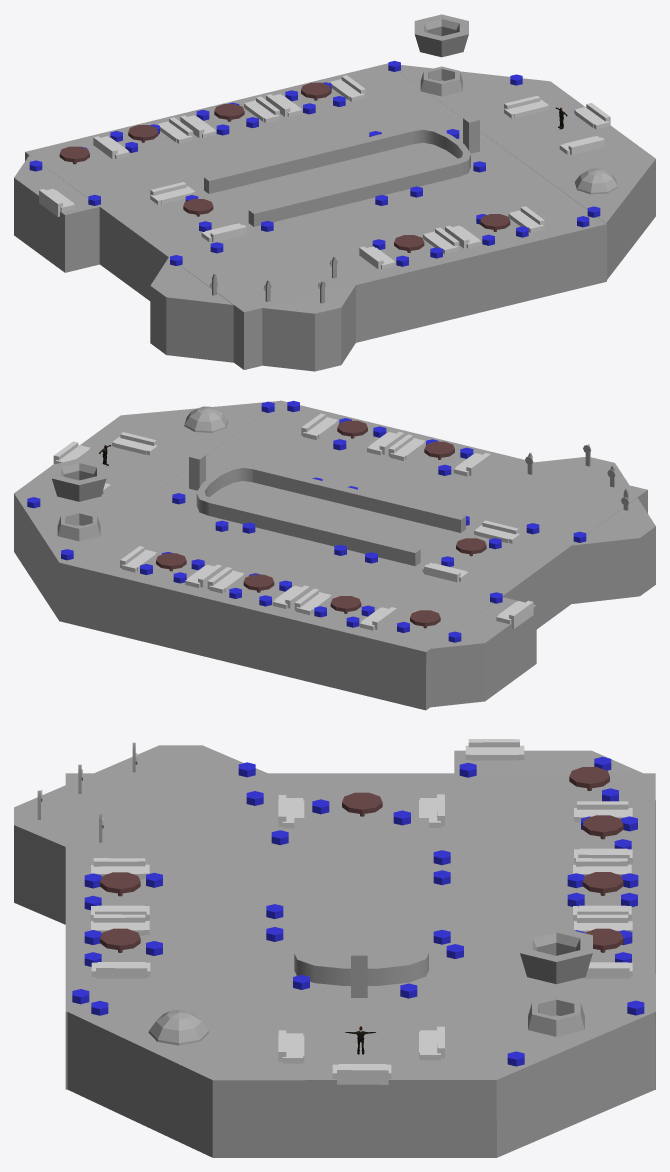
Rendered from HUB.fbx.
The picture shows the model from 3 angles, top to bottom: view 1: azimuth 30°, elevation 25°; view 2: azimuth 150°, elevation 25°; view 3: azimuth 270°, elevation 25°; orthographic projection. The views are drawn at different scales.
Visible parts, largest first — view 1: Floor239, Floor240, Floor243, Floor242, Floor241, Bar, Bar2, pTorus2, Bar1, pTorus1, Meditation_Stone, Watto; view 2: Floor239, Floor240, Floor241, Floor242, Bar2, Bar, pTorus2, Bar1, Floor243, pTorus1, Meditation_Stone, Watto; view 3: Floor239, Floor240, Floor243, pCylinder38 (×7), pTorus2, Floor242, Bar1, Floor241, pCube9 (×3), Bar2, pTorus1, Bar (+3 smaller).
Boxes of the visible parts, x1,y1,x2,y2 form: Floor239: (25, 63, 606, 369); Floor240: (398, 65, 655, 279); Floor243: (262, 285, 355, 371); Floor242: (150, 257, 233, 362); Floor241: (14, 155, 99, 272); Bar: (204, 129, 407, 193); Bar2: (248, 161, 452, 226); pTorus2: (414, 14, 468, 57); Bar1: (403, 126, 470, 178); pTorus1: (420, 66, 462, 96); Meditation_Stone: (575, 168, 618, 194); Watto: (463, 115, 479, 153); Floor239: (59, 400, 647, 710); Floor240: (14, 401, 279, 619); Floor241: (430, 597, 536, 707); Floor242: (572, 498, 655, 603); Bar2: (259, 467, 465, 532); Bar: (214, 500, 420, 566); pTorus2: (51, 458, 106, 501); Bar1: (196, 464, 264, 516); Floor243: (535, 457, 629, 485); pTorus1: (57, 511, 100, 541); Meditation_Stone: (184, 406, 227, 432); Watto: (189, 452, 205, 490); Floor239: (65, 773, 655, 1089); Floor240: (67, 1011, 655, 1157); Floor243: (14, 785, 65, 924); pCylinder38 (×7): (100, 767, 623, 950); pTorus2: (520, 926, 592, 984); Floor242: (94, 745, 267, 773); Bar1: (294, 948, 428, 985); Floor241: (454, 750, 642, 773); pCube9 (×3): (96, 964, 629, 1084); Bar2: (294, 818, 308, 948); pTorus1: (528, 996, 584, 1036); Bar: (415, 818, 428, 948).
Bounding box in the file's own units: 47.52 × 10.36 × 38.45.
